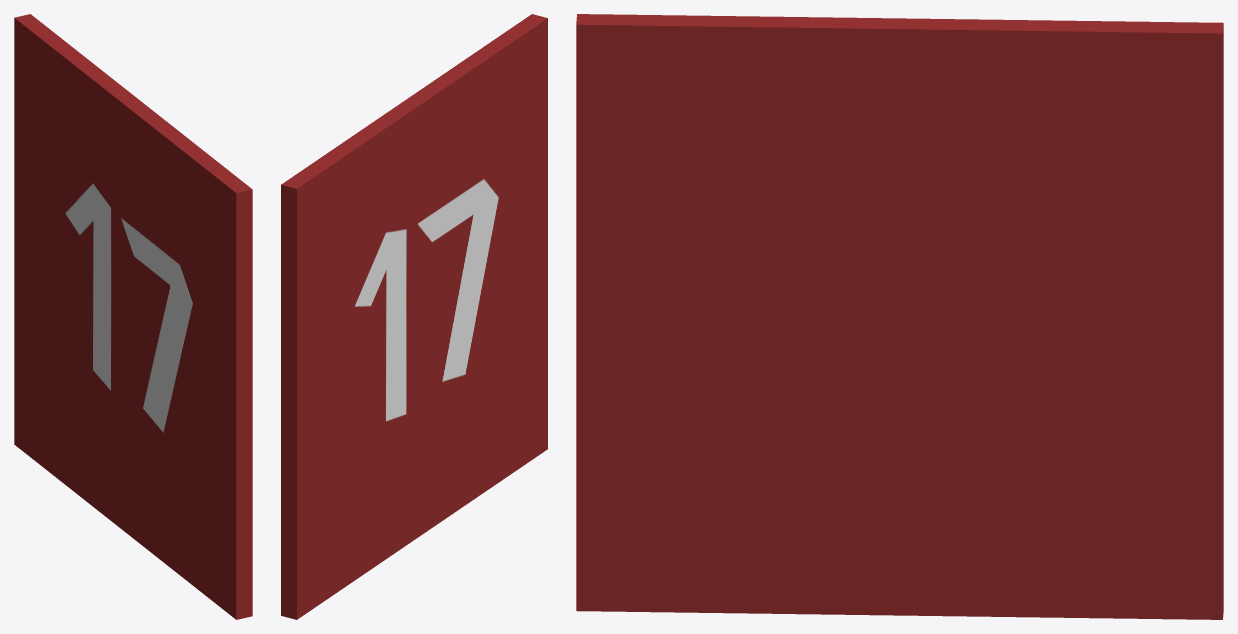
Rendered from flap16.glb.
The picture shows the model from 3 angles, left to right: view 1: azimuth 30°, elevation 25°; view 2: azimuth 150°, elevation 25°; view 3: azimuth 270°, elevation 25°; orthographic projection. The views are drawn at different scales.
Parts seen in each view (by area): view 1: flap.016; view 2: flap.016; view 3: flap.016.
Part boxes in pixels (x1,y1,x2,y2): flap.016: (14, 14, 252, 619); flap.016: (281, 14, 547, 619); flap.016: (576, 14, 1223, 619).
Size of the model in its own units: 0.0179 by 0.25 by 0.2502.
Materials: 1 (1 with a texture image).
